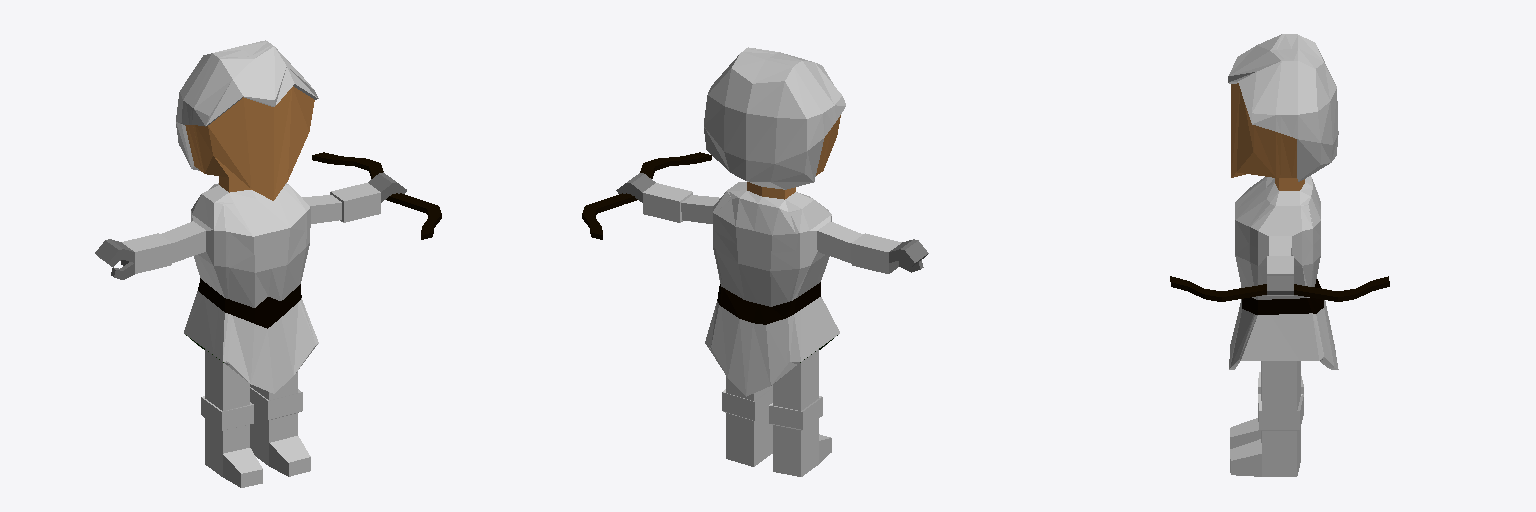
The model's file is Archer.obj.
The picture shows the model from 3 angles: view 1: azimuth 30°, elevation 25°; view 2: azimuth 150°, elevation 25°; view 3: azimuth 270°, elevation 25°; orthographic projection.
Visible parts, largest first — view 1: Archer:pCube9 polySurface2, polySurface1 Archer:pCube9; view 2: Archer:pCube9 polySurface2, polySurface1 Archer:pCube9; view 3: Archer:pCube9 polySurface2, polySurface1 Archer:pCube9.
Boxes of the visible parts, x1=… form: Archer:pCube9 polySurface2: x1=95, y1=40, x2=406, y2=487; polySurface1 Archer:pCube9: x1=312, y1=152, x2=441, y2=239; Archer:pCube9 polySurface2: x1=616, y1=47, x2=928, y2=476; polySurface1 Archer:pCube9: x1=582, y1=152, x2=711, y2=239; Archer:pCube9 polySurface2: x1=1228, y1=34, x2=1338, y2=476; polySurface1 Archer:pCube9: x1=1170, y1=276, x2=1389, y2=301.
Size of the model in its own units: 66.98 by 84.99 by 41.21.